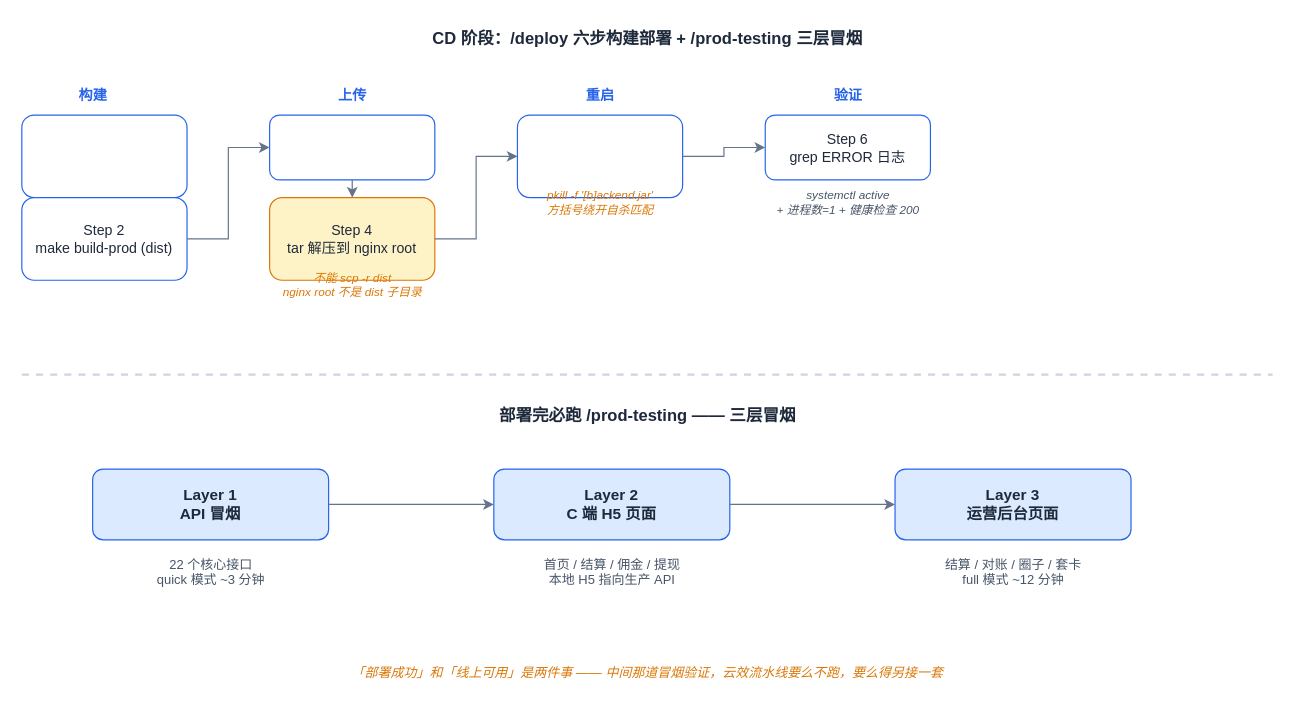
This 1294x719 diagram has some shape labels left out. Here are the shapes that lost their labels. From the top down, the centre of each, then its label:
At (x=104, y=156): "Step 1 mvn clean package".
At (x=351, y=147): "Step 3 scp jar 上服务器".
At (x=599, y=156): "Step 5 systemctl restart".
